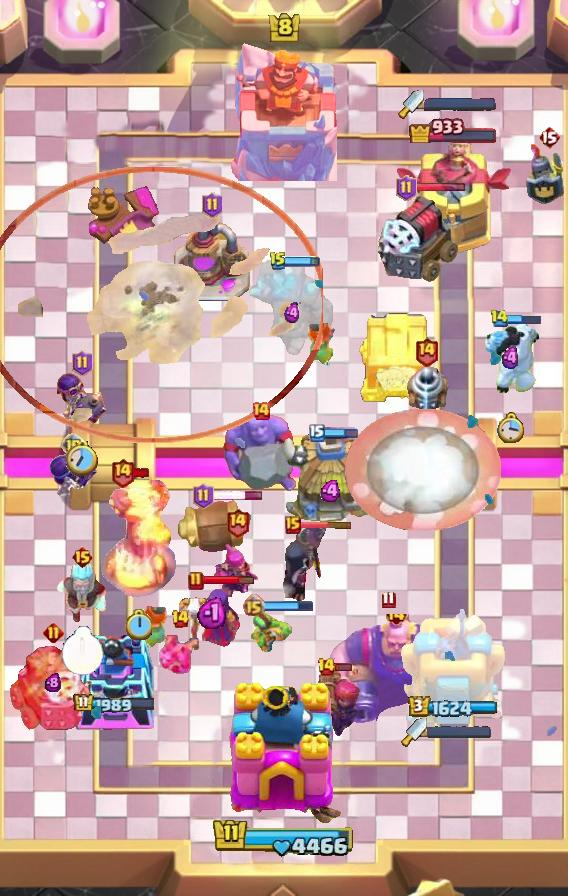archer-queen: (220, 409, 302, 497)
axe: (179, 586, 243, 656)
bar: (401, 601, 505, 731), (394, 142, 512, 256)
bomb: (357, 310, 437, 404)
cannoneer-tower: (247, 257, 337, 359)
clock: (212, 817, 356, 859)
electro-dragon: (99, 472, 177, 600)
electro-spirit: (197, 595, 226, 629), (500, 346, 522, 370), (320, 480, 343, 502), (284, 302, 301, 324), (45, 673, 61, 692)
elixir: (60, 626, 103, 676), (66, 441, 98, 476), (497, 413, 525, 444), (125, 609, 152, 640)
emote: (262, 600, 314, 612), (211, 490, 264, 501), (201, 574, 254, 585), (414, 182, 466, 193), (299, 519, 353, 528), (323, 427, 359, 439), (506, 313, 541, 325), (284, 257, 320, 268), (132, 467, 152, 479), (335, 662, 354, 672)
evolution-symbol: (213, 538, 261, 598)
giant-snowball: (244, 610, 292, 654)
goblin-ball: (55, 371, 109, 427), (47, 449, 99, 503)
goblin-drill: (400, 364, 452, 420)
golem: (8, 641, 98, 733), (374, 193, 460, 283)
hog-rider: (303, 318, 341, 370), (134, 601, 172, 653)
king-tower: (222, 680, 346, 826), (231, 43, 337, 181)
king-tower-bar: (424, 97, 496, 111), (427, 726, 491, 738)
lightning: (324, 614, 452, 728)
mega-minion: (313, 663, 361, 739)
mortar: (53, 558, 111, 626)
pekka: (173, 221, 251, 303)
prince: (280, 432, 382, 528)
princess: (524, 142, 568, 206)
queen-tower: (73, 623, 155, 731)
rage: (479, 323, 543, 399)
rascal-boy: (279, 522, 329, 606)
royal-delivery: (157, 631, 203, 677)
royal-ghost: (0, 167, 323, 443)
selected: (409, 115, 500, 143), (408, 694, 498, 717), (72, 693, 155, 715)
text: (110, 457, 135, 488), (225, 506, 250, 537), (414, 336, 438, 367), (61, 433, 85, 457), (193, 483, 215, 509), (70, 545, 93, 569), (396, 175, 417, 201), (201, 192, 222, 218), (71, 350, 92, 376), (242, 594, 265, 617), (538, 125, 560, 149), (43, 621, 64, 643), (251, 401, 271, 421), (170, 609, 189, 629), (317, 657, 336, 677), (491, 309, 510, 328), (269, 251, 287, 271), (188, 571, 204, 591), (309, 424, 325, 442), (285, 516, 301, 534), (381, 591, 396, 609)
the-log: (174, 500, 254, 554)
wall-breaker: (346, 409, 502, 531)
